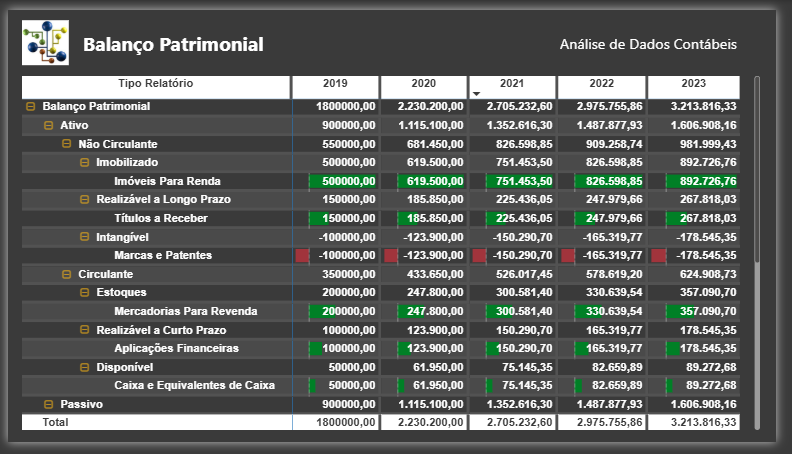

This screenshot's page, from the dashboard's own definition file:
{"tool":"powerbi","page":{"name":"Página 1","canvas":[1280,720],"ordinal":0},"visuals":[{"type":"pivotTable","fields":{"Rows":["PlanoContas.Tipo Relatório","PlanoContas.Conta Nível 1","PlanoContas.Conta Nível 2","PlanoContas.Conta Nível 3","PlanoContas.Conta Nível 4"],"Values":["Sum(DadosContabeis.Ano_2019)","Sum(DadosContabeis.Ano_2020)","Sum(DadosContabeis.Ano_2021)","Sum(DadosContabeis.Ano_2022)","Sum(DadosContabeis.Ano_2023)"]},"box":[18.3,105,1240,600],"z":0},{"type":"image","box":[18.3,10,88.3,88.3],"z":1000},{"type":"textbox","box":[120,28.3,348.3,53.3],"z":2000},{"type":"textbox","box":[866.7,33.3,353.3,48.3],"z":2001}]}

Visuals, with their boxes in screenshot pixels (x1, y1, x2, y2), scaled from the page's 1280x720 canvas onto the 792x454 screenshot:
pivotTable - PlanoContas.Tipo Relatório x PlanoContas.Conta Nível 1: left=11, top=66, right=779, bottom=445
image: left=11, top=6, right=66, bottom=62
textbox: left=74, top=18, right=290, bottom=51
textbox: left=536, top=21, right=755, bottom=51
